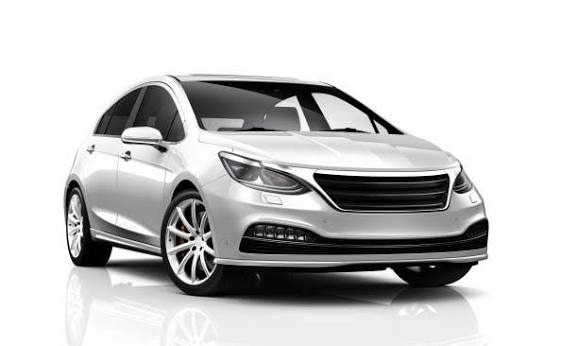car: (53, 71, 503, 290)
